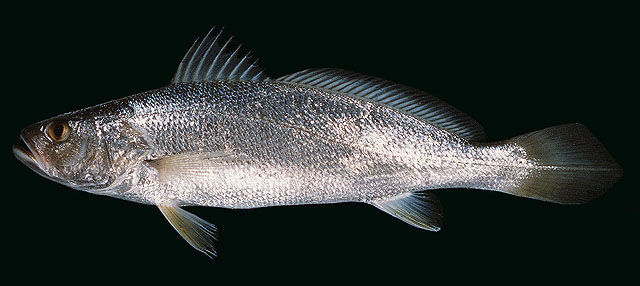fish: (13, 24, 613, 259)
